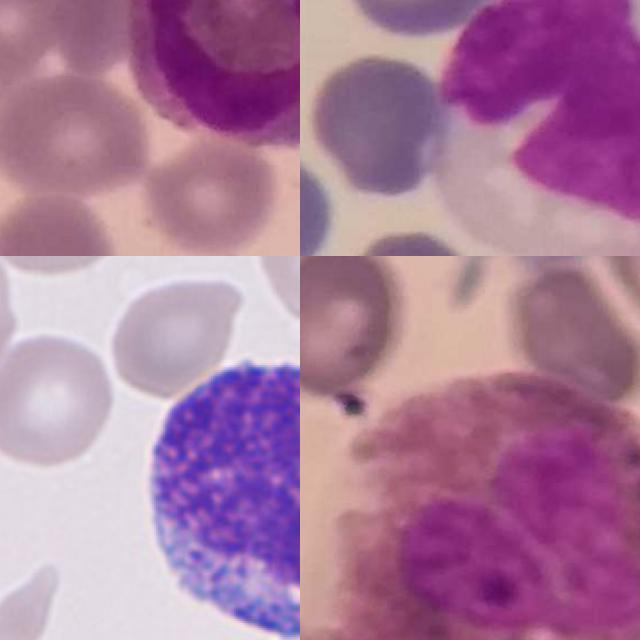Eosinophil: (317, 366, 640, 640), (128, 0, 300, 149)
Lymphocyte: (131, 340, 300, 640)
Monocyte: (431, 0, 640, 256)
RBC: (104, 271, 252, 399), (0, 327, 118, 471), (0, 553, 65, 640), (0, 256, 136, 278), (0, 256, 21, 390)
